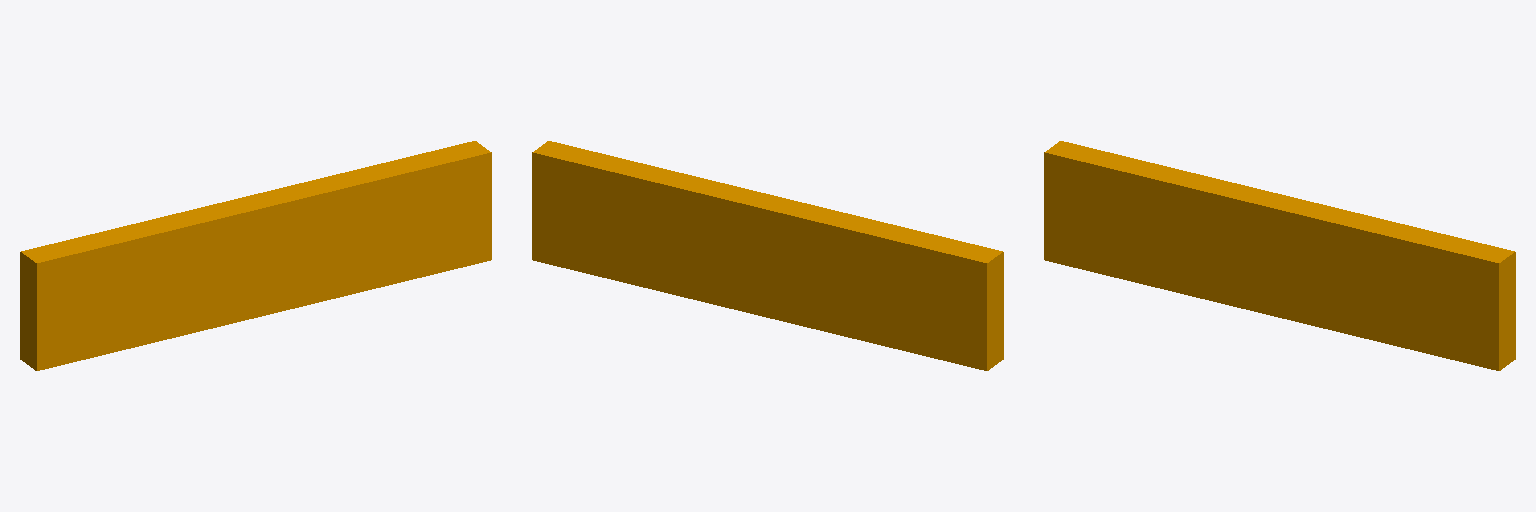
URDF robot description (wall_LARGE):
<?xml version="1.0"?>

<robot name="wall_LARGE">
   <link name="base_link">
     <inertial>
       <origin xyz="0 0 0" />
       <mass value="50.0" />
       <inertia  ixx="1.0" ixy="0.0"  ixz="0.0"  iyy="100.0"  iyz="0.0"  izz="1.0" />
     </inertial>
     <visual>
       <origin xyz="0 0 0"/>
       <geometry>
         <box size="4.85 0.3 1.1" />
       </geometry>
     </visual>
     <collision>
       <origin xyz="0 0 0"/>
       <geometry>
         <box size="4.85 0.3 1.1" />
       </geometry>
     </collision>
   </link>
   <gazebo>
     <material>IPA/Wall2</material>
   </gazebo>
</robot>

--- Render facts (derived) ---
The picture shows the robot from 3 angles, left to right: view 1: azimuth 30°, elevation 25°; view 2: azimuth 150°, elevation 25°; view 3: azimuth 330°, elevation 25°; orthographic projection.
Robot: wall_LARGE — 1 links, 0 joints (none); root link base_link; default pose: every joint at zero.
Visible links, largest first — view 1: base_link; view 2: base_link; view 3: base_link.
Link boxes in pixels (bbox=[...]): base_link: bbox=[20, 141, 491, 370]; base_link: bbox=[532, 141, 1003, 370]; base_link: bbox=[1044, 141, 1515, 370].
Size in the robot's own frame: 4.85 by 0.3 by 1.1 metres.
Geometry: primitives only (box / cylinder / sphere), no mesh files.